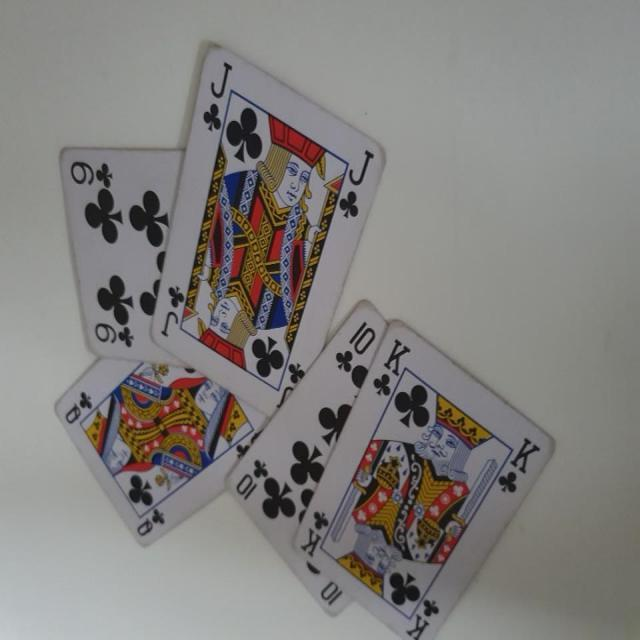10 of clubs: (224, 302, 392, 622)
9 of clubs: (58, 142, 193, 371)
jack of clubs: (154, 41, 388, 418)
king of clubs: (293, 318, 556, 639)
queen of clubs: (53, 359, 270, 548)
